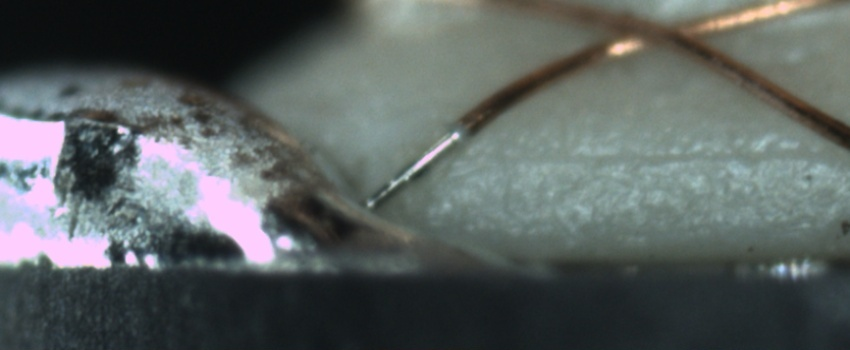CL: (585, 4, 738, 60)
DL: (416, 125, 850, 189)
TS: (361, 125, 466, 210)
